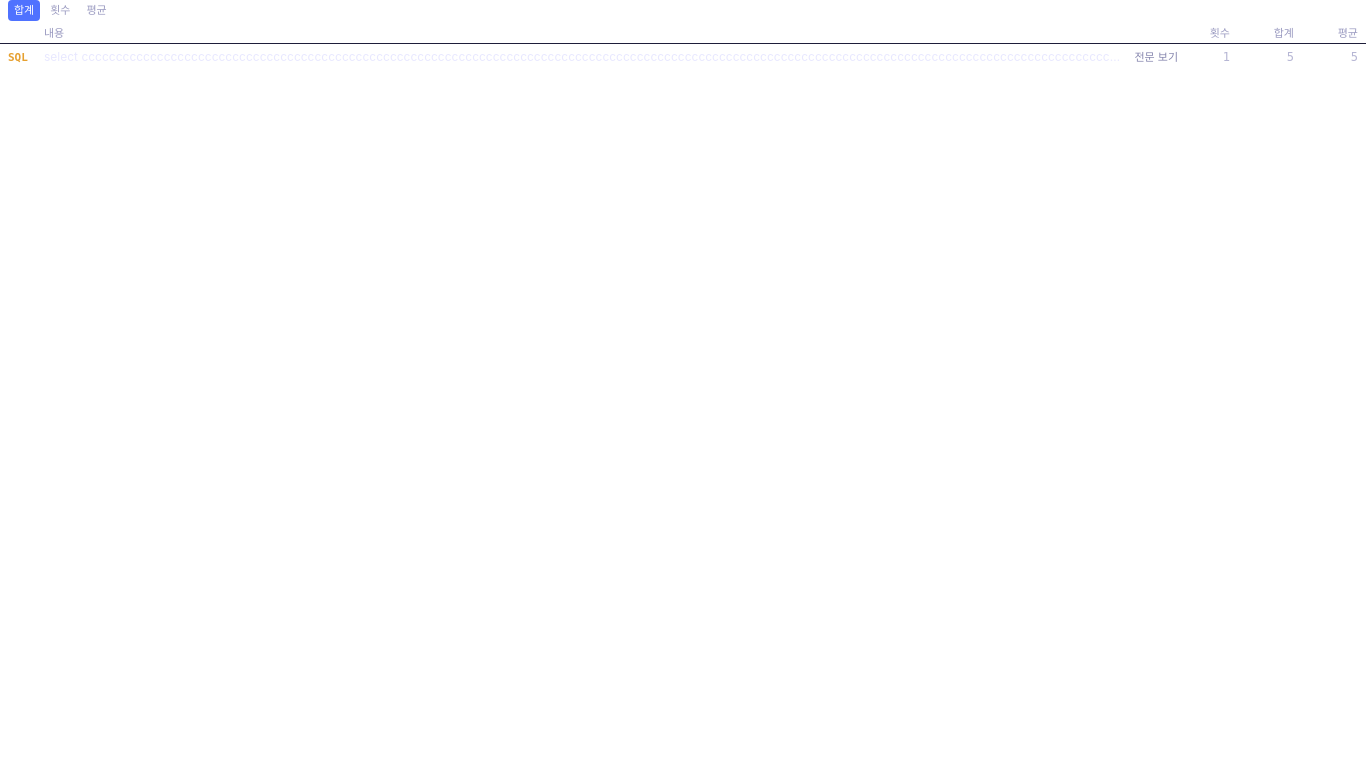
요약 탭 › 긴 문장을 툴팁이 아니라 창으로 연다
Click the button "전문 보기": {"x": 1156, "y": 57} [1130,49,1182,66]
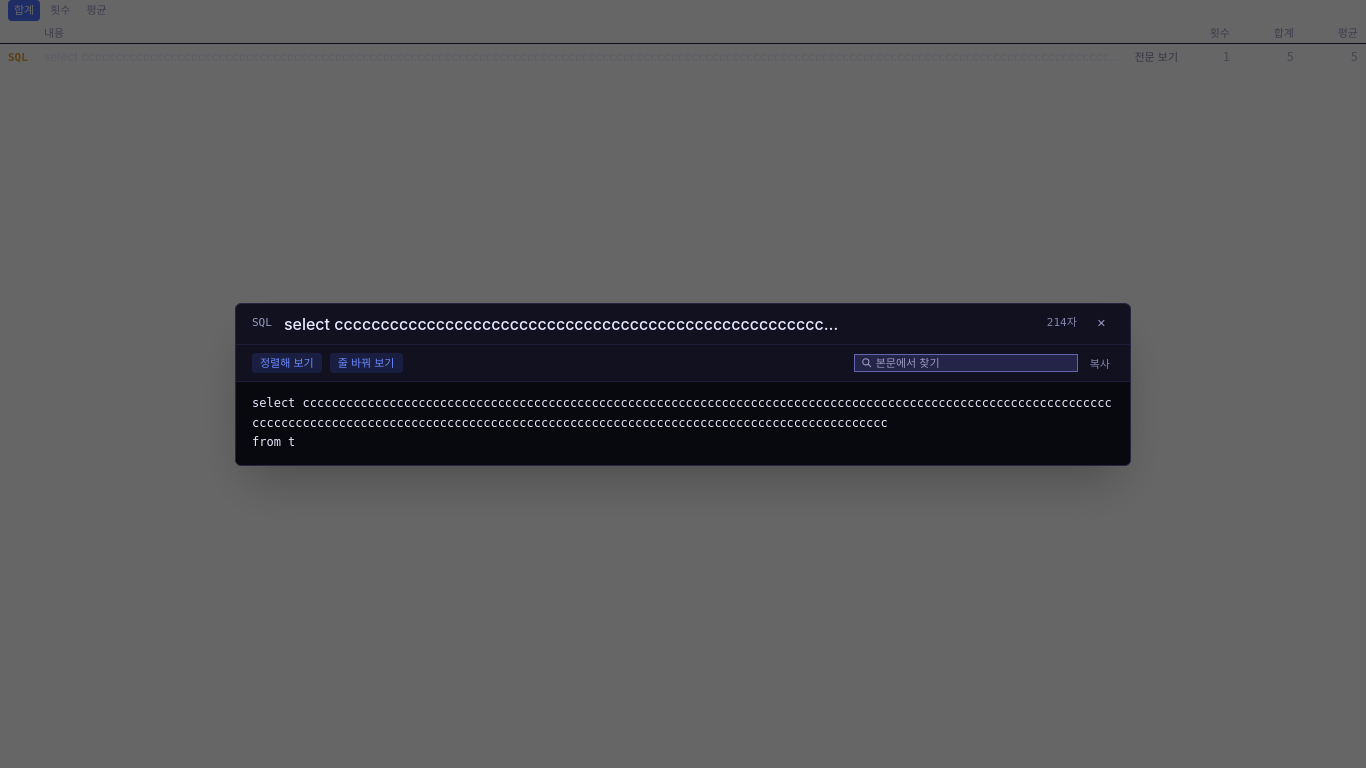
Check: the dialog shows "from t", box [252,396,1112,449]
